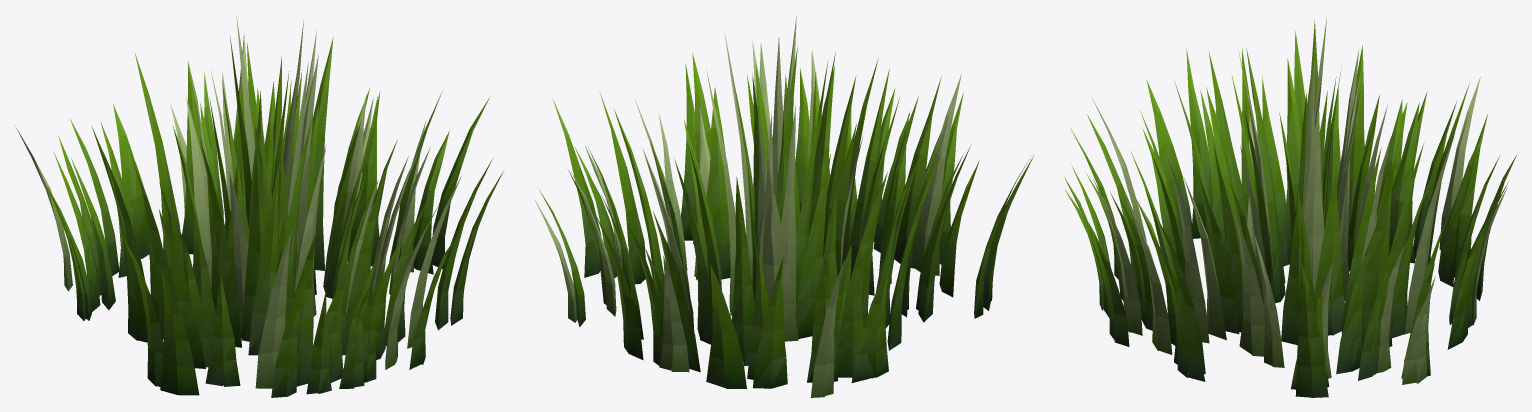
The model's file is vegetasi_grass_moss_50291.glb.
3 renders of one model, left to right at view 1: azimuth 30°, elevation 25°; view 2: azimuth 150°, elevation 25°; view 3: azimuth 270°, elevation 25°, orthographic.
Parts seen in each view (by area): view 1: Rumpun_Rumput_Liar; view 2: Rumpun_Rumput_Liar; view 3: Rumpun_Rumput_Liar.
Boxes of the visible parts, left/top/right/bottom form: Rumpun_Rumput_Liar: left=15, top=15, right=503, bottom=397; Rumpun_Rumput_Liar: left=534, top=16, right=1033, bottom=397; Rumpun_Rumput_Liar: left=1064, top=17, right=1516, bottom=397.
Bounding box in the file's own units: 3.23 × 2.12 × 3.01.
